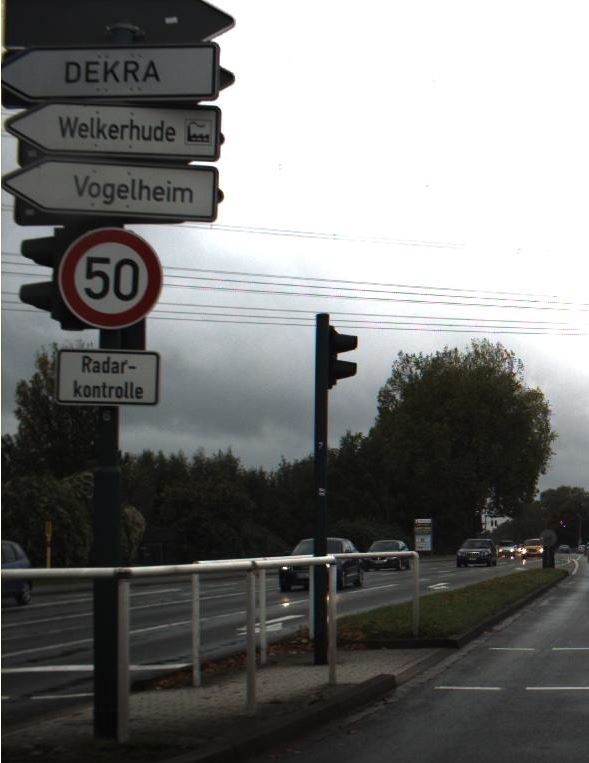50 Km Hiz Siniri: (58, 230, 171, 329)
